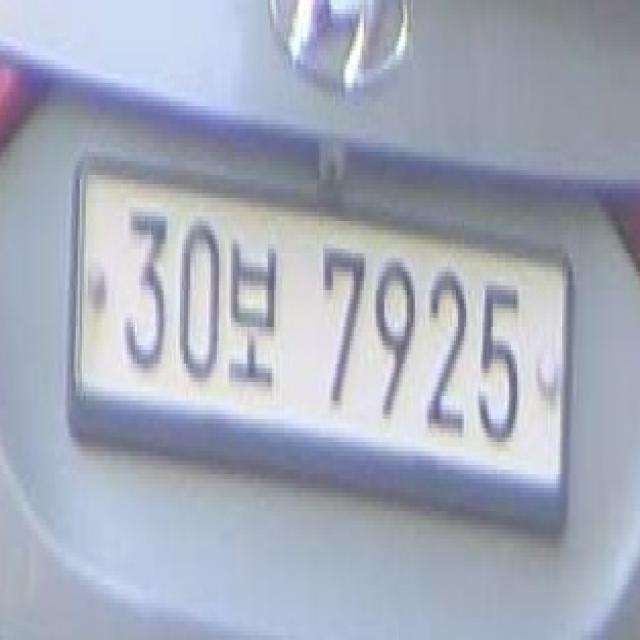0: (176, 212, 221, 378)
2: (423, 262, 466, 438)
3: (122, 203, 168, 373)
5: (474, 272, 522, 451)
7: (321, 239, 366, 410)
9: (374, 253, 417, 419)
bo: (227, 235, 280, 396)
license_plate: (65, 143, 581, 543)
